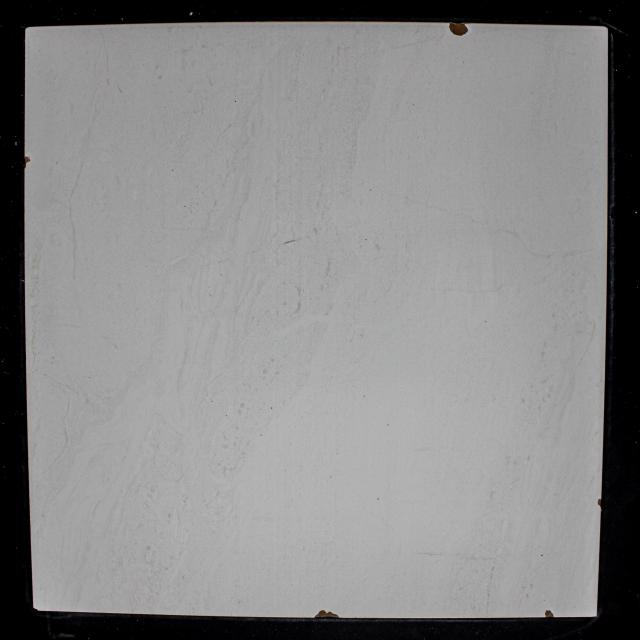edge-chipping: (448, 23, 469, 36), (314, 610, 341, 618), (24, 156, 30, 170), (544, 610, 554, 617), (598, 498, 601, 509)
hole: (377, 498, 379, 500), (542, 554, 544, 556)
